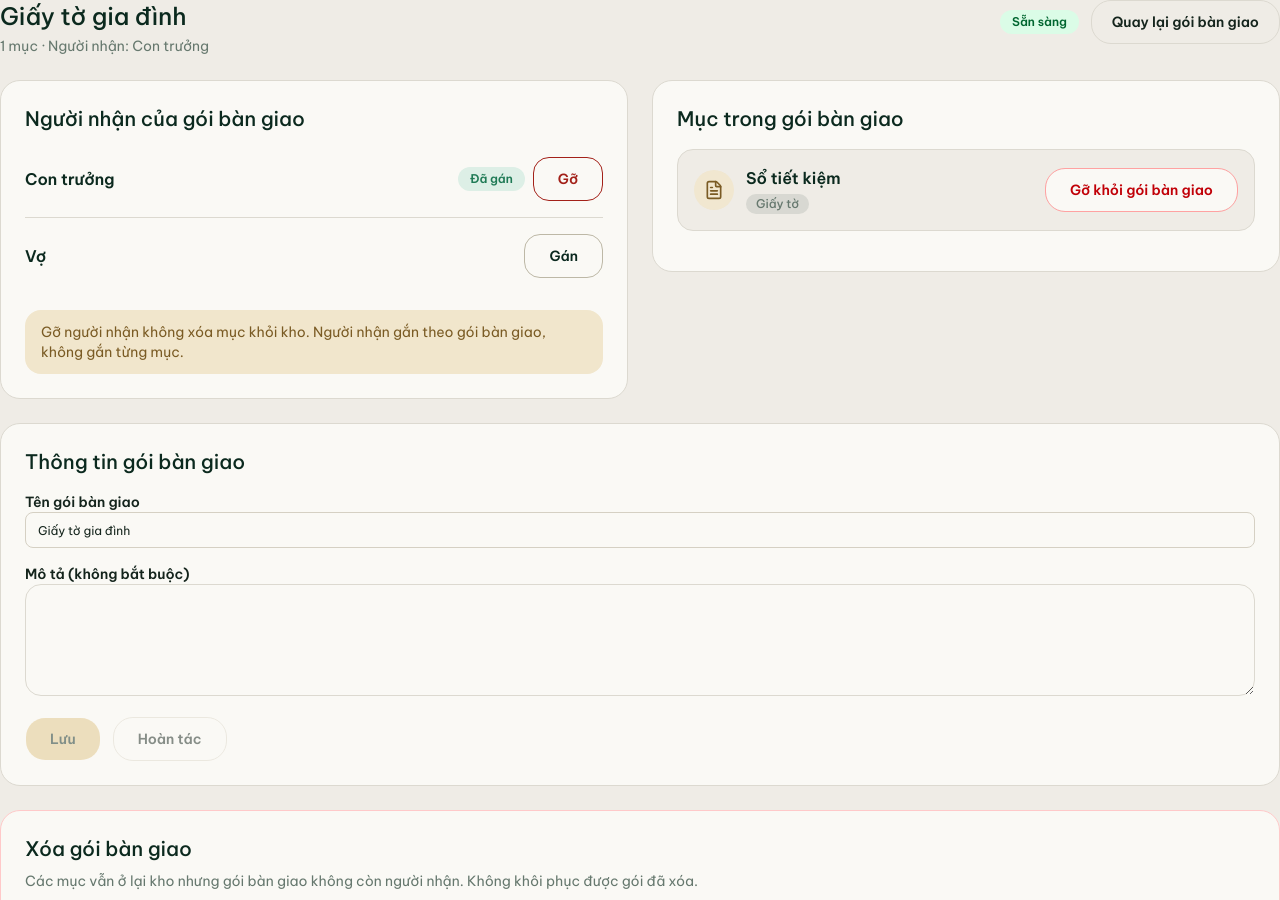
Test: chi tiết gói bàn giao › bấm Hủy ở hộp thoại hỏi thì không gỡ gì
Step 1. Click the button "Gỡ khỏi gói bàn giao" → (1141, 190), box [1045,168,1238,212]
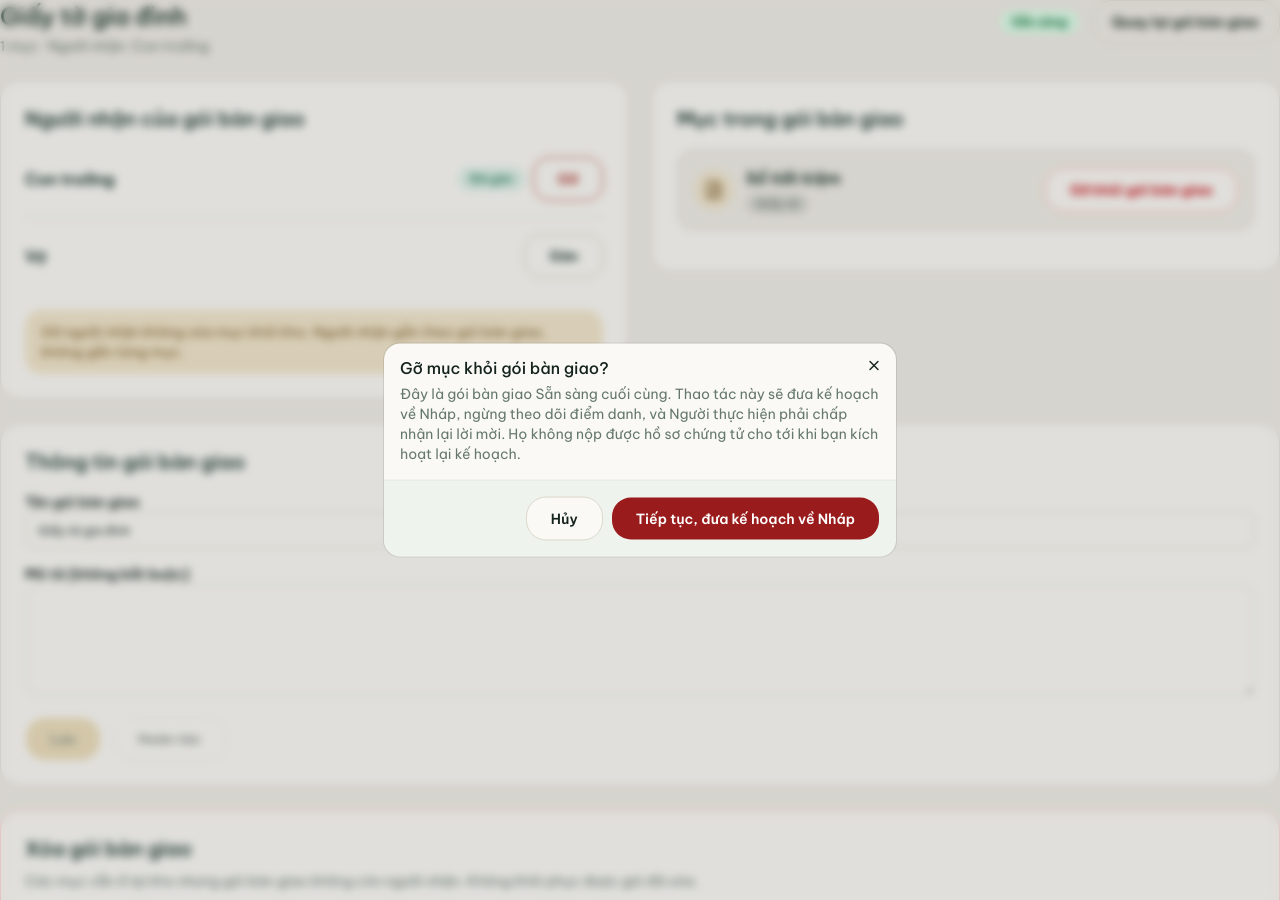
Expected: the dialog shows "Gỡ mục khỏi gói bàn giao?", [400,358,609,378]
Step 2. Click the button "Hủy" → (564, 518), box [526,496,603,540]
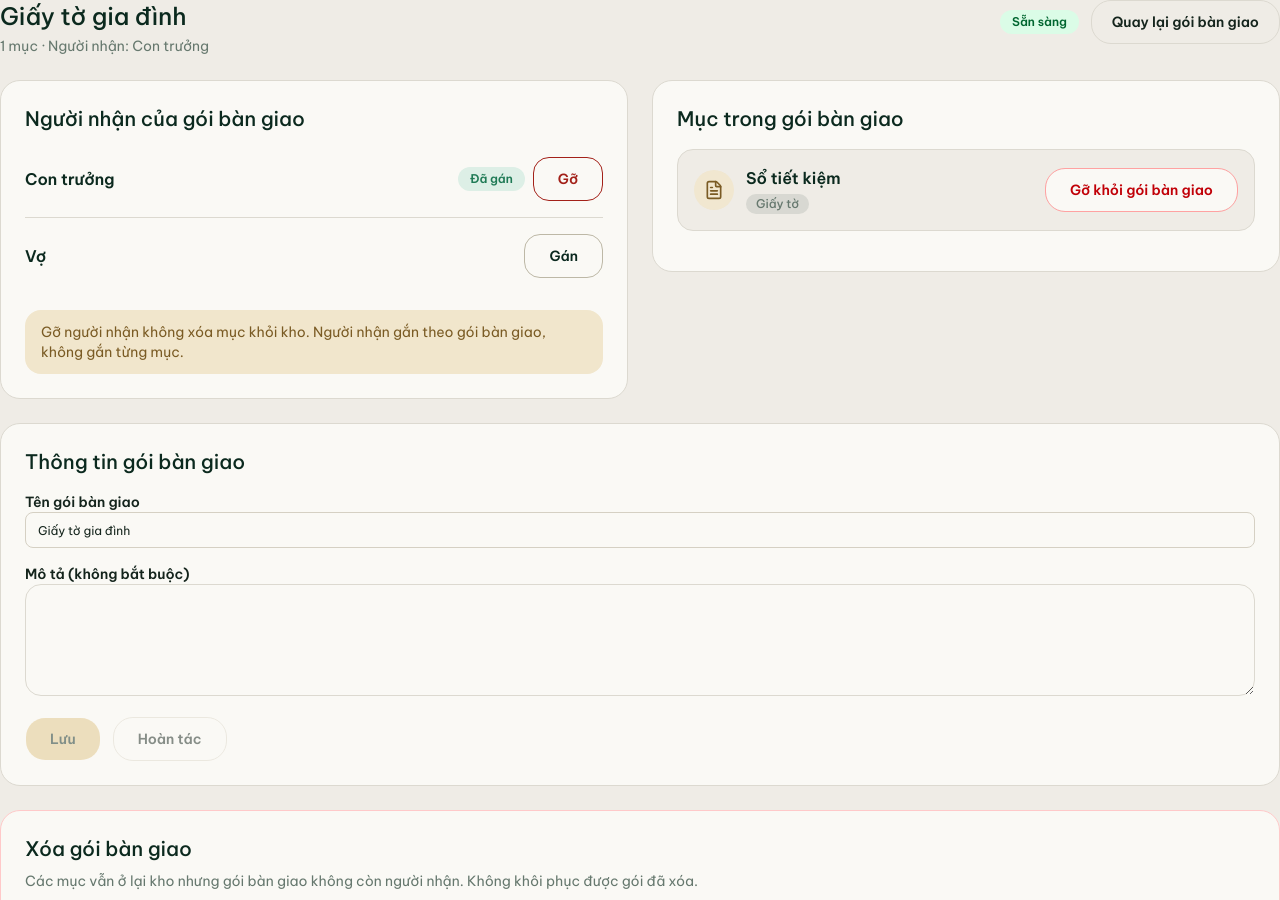
Expected: the dialog is gone
